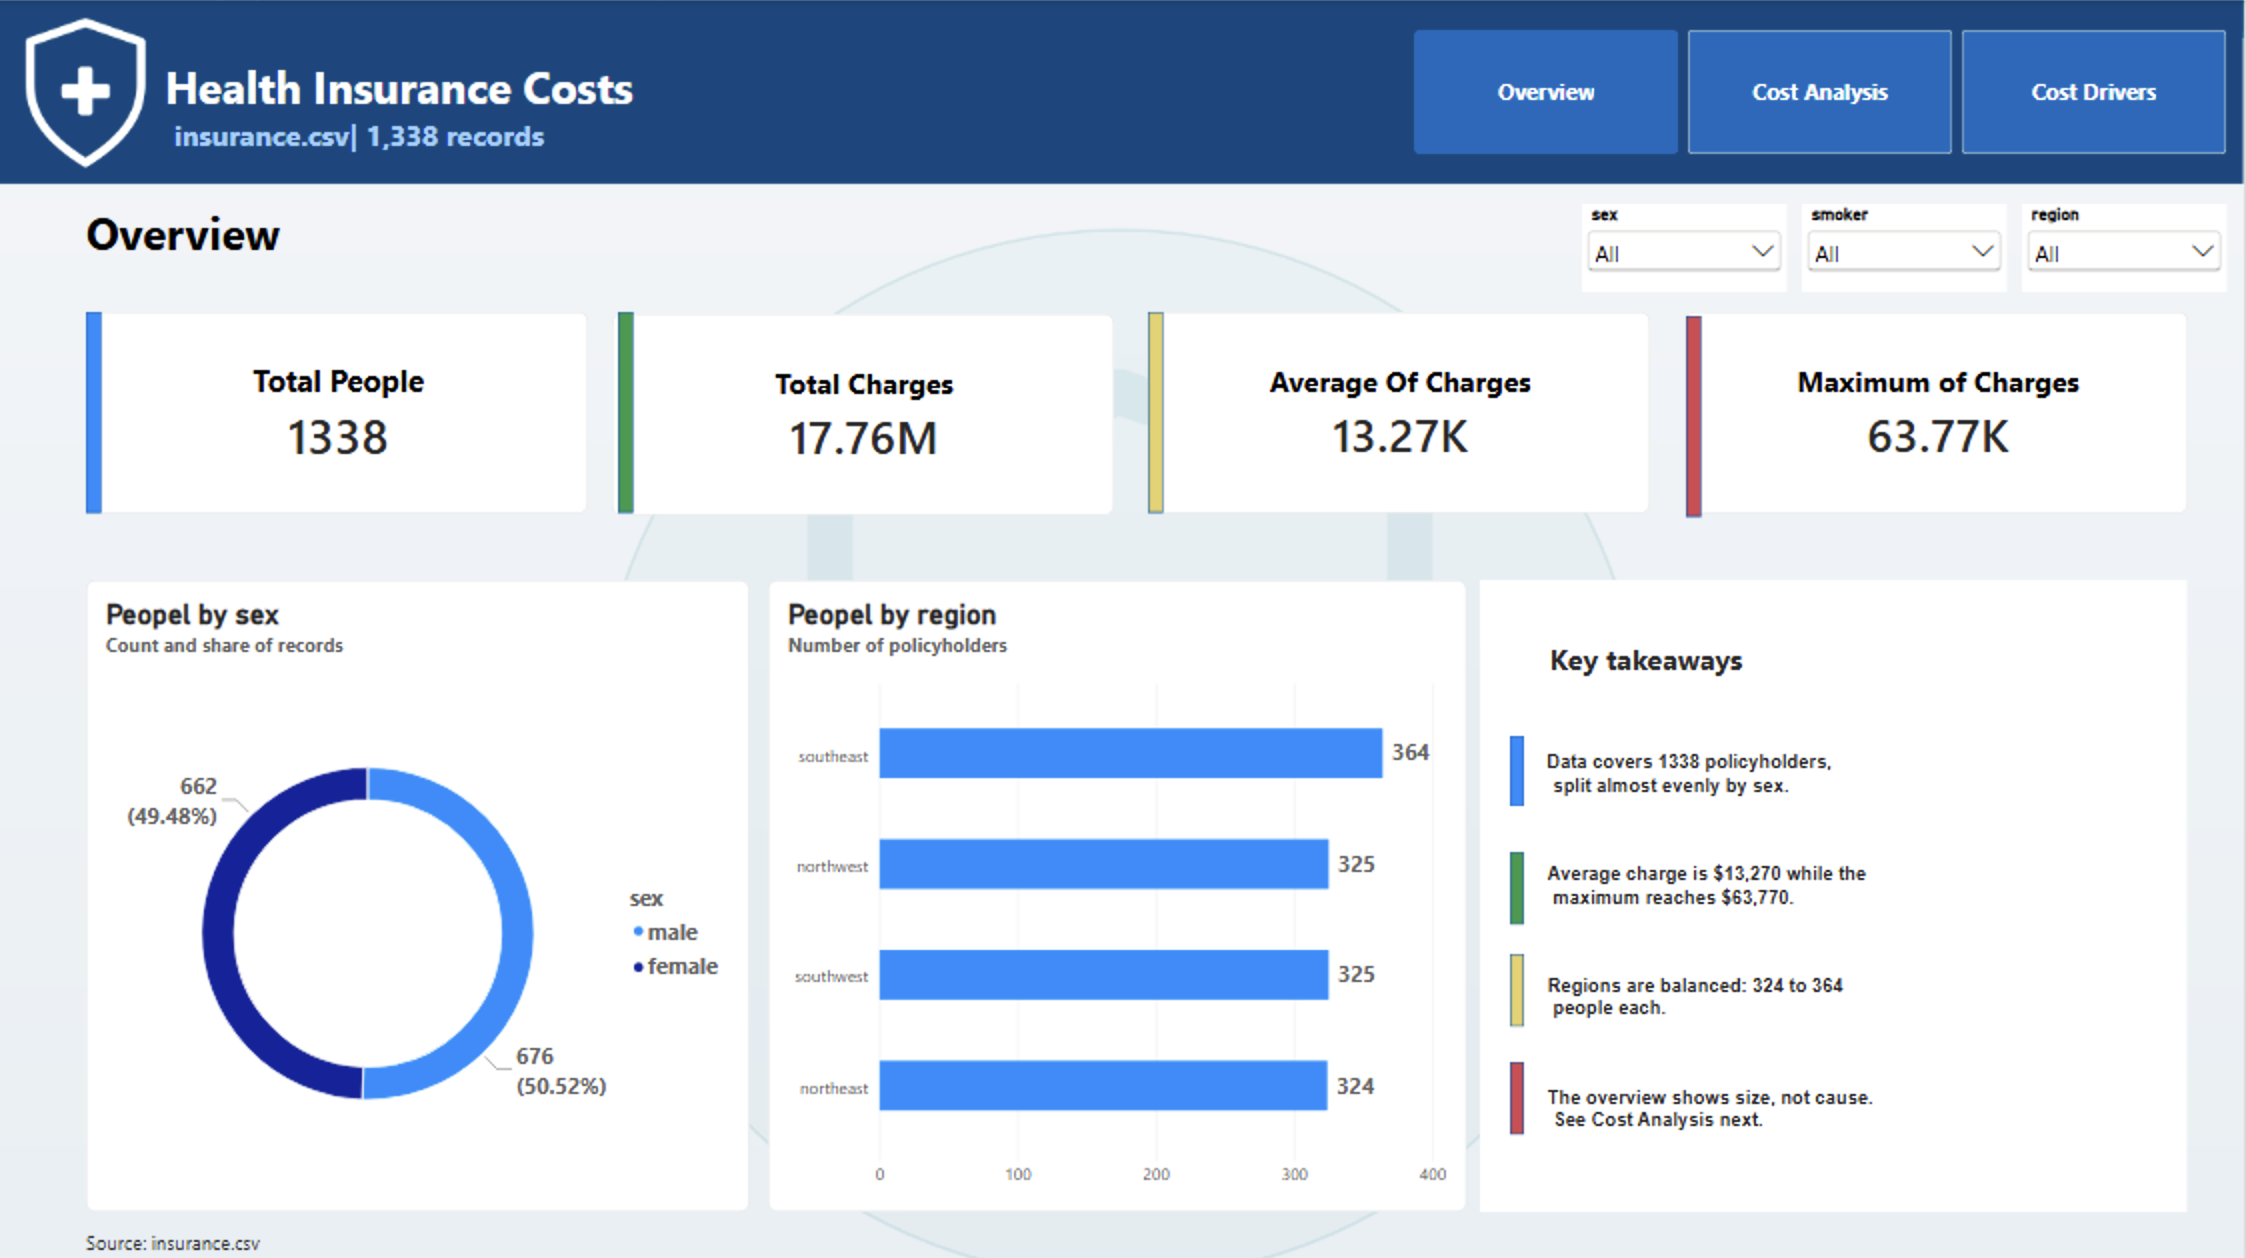

The dashboard page shown, as its layout file describes it:
{"tool":"powerbi","page":{"name":"Overview","canvas":[1920,1080],"ordinal":0},"visuals":[{"type":"cardVisual","fields":{"Data":["CountNonNull(insurance.age)"]},"box":[76.9,267.3,429.3,172.6],"z":0},{"type":"textbox","box":[0,0,1920,156.5],"z":1000},{"type":"textbox","box":[77.3,174.4,227.9,75.3],"z":2000},{"type":"cardVisual","fields":{"Data":["Sum(insurance.charges)"]},"box":[527.1,267.5,429.3,172.6],"z":3000},{"type":"cardVisual","fields":{"Data":["Avg(insurance.charges)"]},"box":[984.6,267.3,429.3,172.6],"z":4000},{"type":"cardVisual","fields":{"Data":["Max(insurance.charges)"]},"box":[1444.2,267.3,429.3,172.6],"z":5000},{"type":"donutChart","title":"Peopel by sex","fields":{"Category":["insurance.sex"],"Y":["CountNonNull(insurance.sex)"]},"box":[76.9,496.2,566.7,540],"z":6000},{"type":"barChart","title":"Peopel by region","fields":{"Category":["insurance.region"],"Y":["CountNonNull(insurance.region)"]},"box":[659.6,496.2,596.7,540],"z":7000},{"type":"textbox","box":[1267.3,496.2,603.8,540.4],"z":8000},{"type":"shape","box":[1293.2,628.5,12.1,60.3],"z":9000},{"type":"shape","box":[530.8,267.3,13.3,171.7],"z":10000},{"type":"shape","box":[984.6,267.3,13.3,171.7],"z":11000},{"type":"shape","box":[1444.2,269.2,13.3,171.7],"z":12000},{"type":"slicer","fields":{"Values":["insurance.sex"]},"box":[1355,175,175,75],"z":13000},{"type":"slicer","fields":{"Values":["insurance.smoker"]},"box":[1543.3,175,175,75],"z":14000},{"type":"slicer","fields":{"Values":["insurance.region"]},"box":[1731.7,175,175,75],"z":15000},{"type":"shape","box":[77.5,266.9,13.3,171.7],"z":16000},{"type":"shape","box":[1293.2,728.4,12.1,62],"z":17000},{"type":"shape","box":[1293.2,814.5,12.1,62],"z":18000},{"type":"shape","box":[1293.2,907.5,12.1,62],"z":19000},{"type":"textbox","box":[77.5,1050.4,322,29.3],"z":20000},{"type":"image","box":[0,0,152.6,156.5],"z":22000},{"type":"pageNavigator","box":[1212.3,25.8,695.7,106.8],"z":22001}]}

Visuals, with their boxes in screenshot pixels (x1, y1, x2, y2), scaled from the page's 1920x1080 canvas onto the 2246x1258 screenshot:
cardVisual - CountNonNull(insurance.age): <box>90,311,592,512</box>
textbox: <box>0,0,2245,182</box>
textbox: <box>90,203,357,291</box>
cardVisual - Sum(insurance.charges): <box>617,312,1119,513</box>
cardVisual - Avg(insurance.charges): <box>1152,311,1654,512</box>
cardVisual - Max(insurance.charges): <box>1689,311,2192,512</box>
"Peopel by sex" donutChart: <box>90,578,753,1207</box>
"Peopel by region" barChart: <box>772,578,1470,1207</box>
textbox: <box>1482,578,2189,1207</box>
shape: <box>1513,732,1527,802</box>
shape: <box>621,311,636,511</box>
shape: <box>1152,311,1167,511</box>
shape: <box>1689,314,1705,514</box>
slicer - insurance.sex: <box>1585,204,1790,291</box>
slicer - insurance.smoker: <box>1805,204,2010,291</box>
slicer - insurance.region: <box>2026,204,2230,291</box>
shape: <box>91,311,106,511</box>
shape: <box>1513,848,1527,921</box>
shape: <box>1513,949,1527,1021</box>
shape: <box>1513,1057,1527,1129</box>
textbox: <box>91,1224,467,1257</box>
image: <box>0,0,179,182</box>
pageNavigator: <box>1418,30,2232,154</box>
